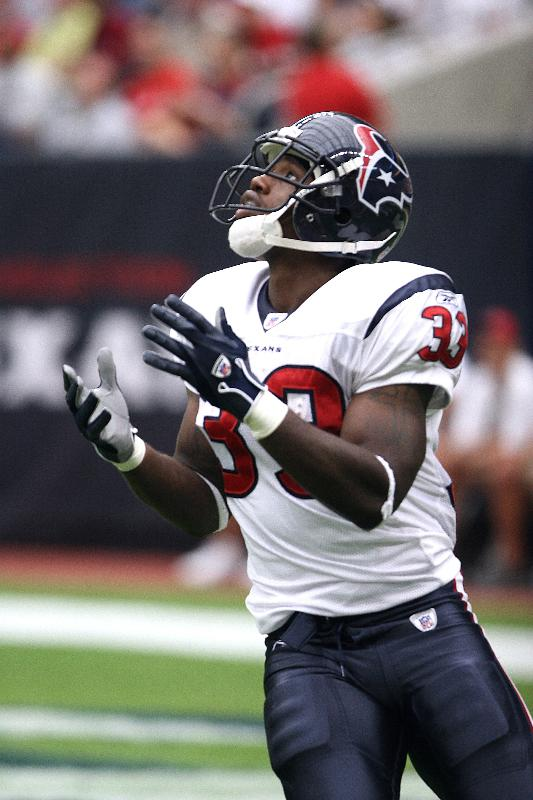Person: (61, 114, 533, 795)
